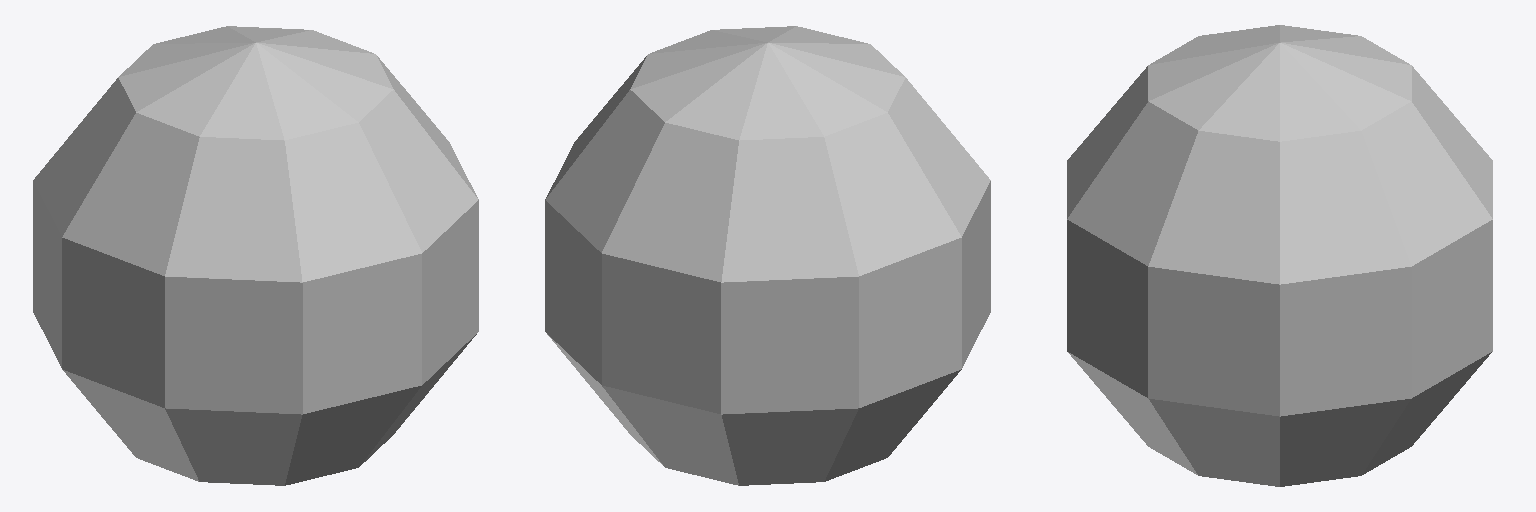
File: Esfera.obj
3 renders of one model, left to right at view 1: azimuth 30°, elevation 25°; view 2: azimuth 150°, elevation 25°; view 3: azimuth 270°, elevation 25°, orthographic.
Visible parts, largest first — view 1: Esfera; view 2: Esfera; view 3: Esfera.
Boxes of the visible parts, x1,y1,x2,y2 form: Esfera: [33, 26, 478, 485]; Esfera: [545, 26, 990, 485]; Esfera: [1067, 25, 1492, 486].
Bounding box in the file's own units: 9.48 × 9.97 × 9.02.